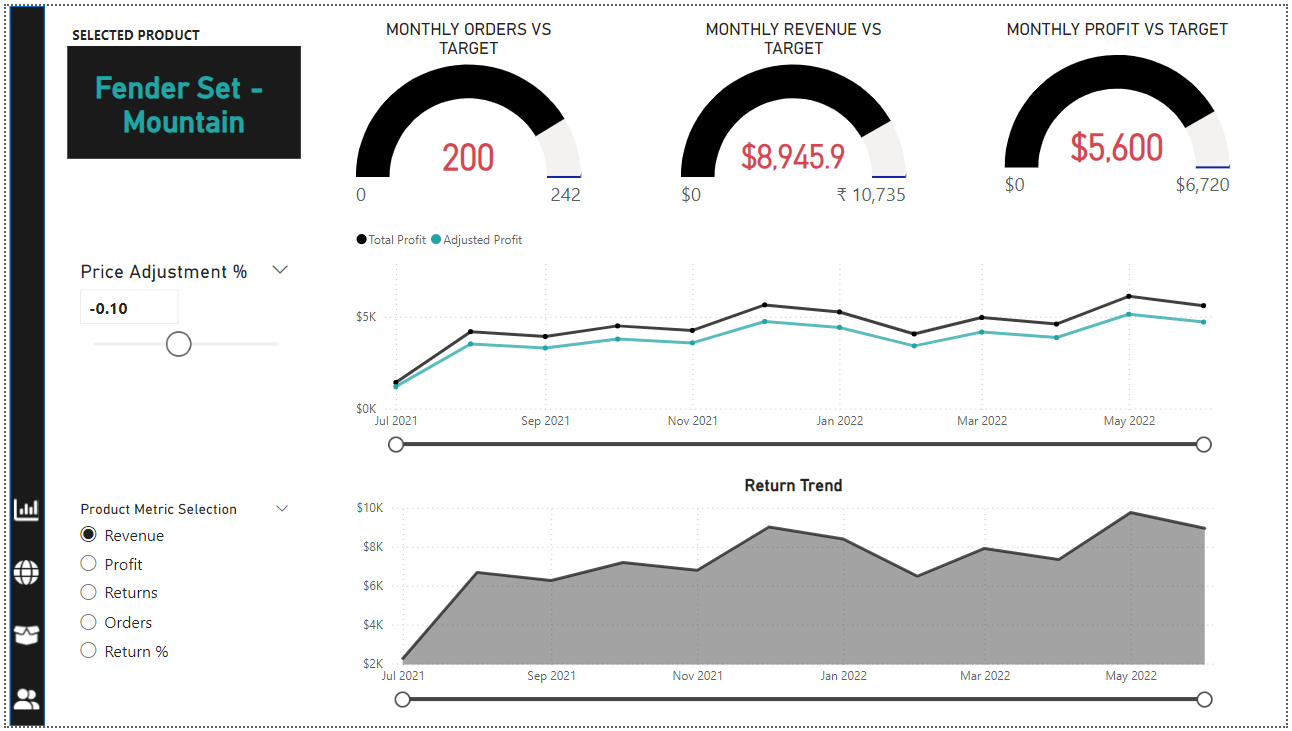

What the dashboard file says about the page in this screenshot:
{"tool":"powerbi","page":{"name":"Product Detail","canvas":[1280,720],"ordinal":3},"visuals":[{"type":"gauge","title":"MONTHLY ORDERS VS TARGET","fields":{"Y":["Measure Table.Total Orders"],"TargetValue":["Measure Table.Order Target"],"MaxValue":["Measure Table.Order Target"]},"box":[345,12.5,235,201.2],"z":0},{"type":"gauge","title":"MONTHLY PROFIT VS TARGET","fields":{"TargetValue":["Measure Table.Profit Target"],"MaxValue":["Measure Table.Profit Target"],"Y":["Measure Table.Total Profit"]},"box":[993.8,12.5,235,201.2],"z":1000},{"type":"gauge","title":"MONTHLY REVENUE VS TARGET","fields":{"Y":["Measure Table.Total Revenue"],"MaxValue":["Measure Table.Revenue Target"],"TargetValue":["Measure Table.Revenue Target"]},"box":[669.4,12.5,235,201.2],"z":2000},{"type":"shape","box":[3.8,0,35,720],"z":3000},{"type":"lineChart","title":"Profit Trend","fields":{"Category":["Calendar Lookup.Date Hierarchy.Start of Year","Calendar Lookup.Date Hierarchy.Start of Month","Calendar Lookup.Date Hierarchy.Start of Quarter","Calendar Lookup.Date Hierarchy.Start of Week"],"Y":["Measure Table.Total Profit","Measure Table.Adjusted Profit"]},"box":[345,213.8,883.8,235],"z":4000},{"type":"areaChart","title":"Return Trend","fields":{"Y":["Measure Table.Total Revenue"],"Category":["Calendar Lookup.Date Hierarchy.Start of Year","Calendar Lookup.Date Hierarchy.Start of Month","Calendar Lookup.Date Hierarchy.Start of Quarter","Calendar Lookup.Date Hierarchy.Start of Week"]},"box":[345,468.8,885,235],"z":5000},{"type":"card","fields":{"Values":["Min(Product Lookup.ProductName)"]},"box":[61.2,40,233.8,112.5],"z":6000},{"type":"textbox","box":[61.2,15,183.8,32.5],"z":7000},{"type":"actionButton","box":[3.8,487.9,35,32.9],"z":8000},{"type":"actionButton","box":[3.8,550.4,35,32.9],"z":9000},{"type":"actionButton","box":[3.8,612.9,35,33.8],"z":10000},{"type":"actionButton","box":[3.8,676.2,35,33.8],"z":11000},{"type":"slicer","fields":{"Values":["Price Adjustment %.Price Adjustment %"]},"box":[61.2,250,233.8,157.5],"z":12000},{"type":"slicer","fields":{"Values":["Product Metric Selection.Product Metric Selection"]},"box":[61.2,490,233.8,192.5],"z":13000}]}

Visuals, with their boxes on the page's 1280x720 design canvas (x1, y1, x2, y2). These are canvas units, not pixel positions in the 1292x731 screenshot, which may show the page scaled, cropped or inside an application window:
"MONTHLY ORDERS VS TARGET" gauge: select_region(345, 12, 580, 214)
"MONTHLY PROFIT VS TARGET" gauge: select_region(994, 12, 1229, 214)
"MONTHLY REVENUE VS TARGET" gauge: select_region(669, 12, 904, 214)
shape: select_region(4, 0, 39, 720)
"Profit Trend" lineChart: select_region(345, 214, 1229, 449)
"Return Trend" areaChart: select_region(345, 469, 1230, 704)
card - Min(Product Lookup.ProductName): select_region(61, 40, 295, 152)
textbox: select_region(61, 15, 245, 48)
actionButton: select_region(4, 488, 39, 521)
actionButton: select_region(4, 550, 39, 583)
actionButton: select_region(4, 613, 39, 647)
actionButton: select_region(4, 676, 39, 710)
slicer - Price Adjustment %.Price Adjustment %: select_region(61, 250, 295, 408)
slicer - Product Metric Selection.Product Metric Selection: select_region(61, 490, 295, 682)
